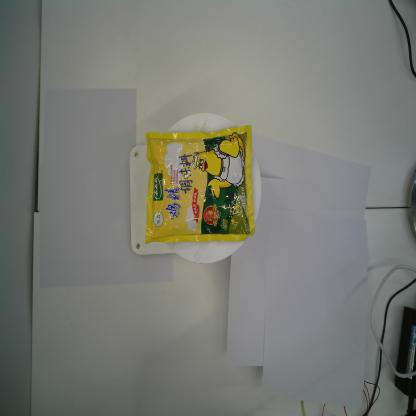Seasoner: (144, 124, 255, 245)
